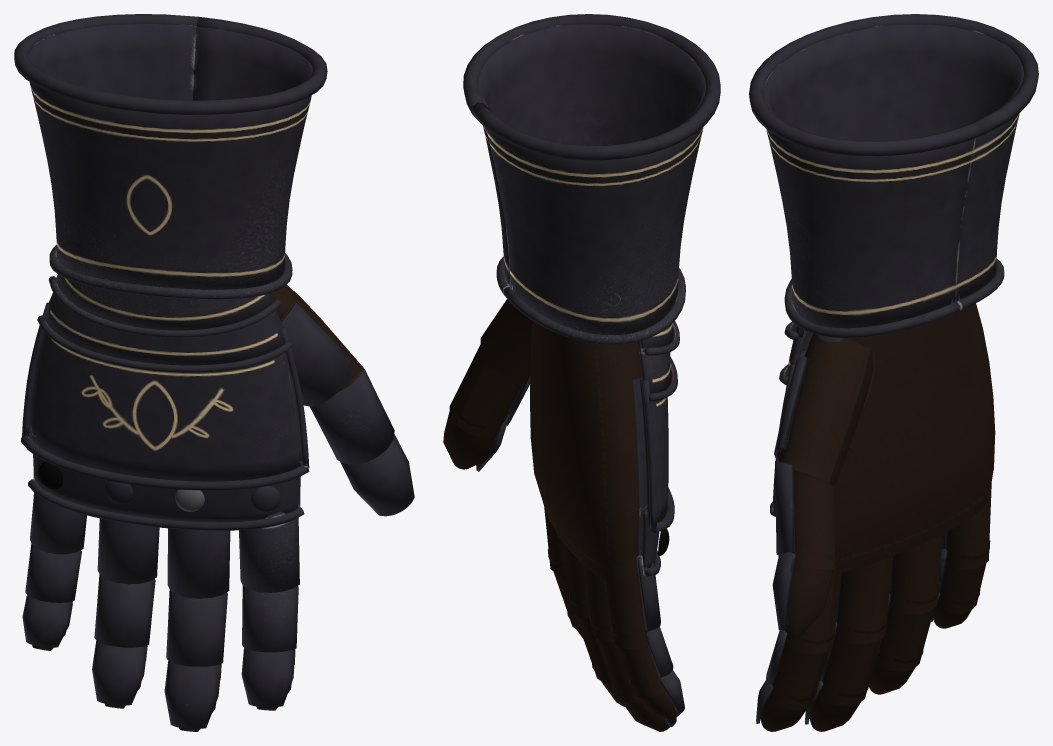
The model's file is SM_ObsidianSovereign_Gauntlets_R.fbx.
3 views of the same model, side by side, from view 1: azimuth 30°, elevation 25°; view 2: azimuth 150°, elevation 25°; view 3: azimuth 270°, elevation 25° (orthographic). The views are drawn at different scales.
Visible parts, largest first — view 1: SM_ObsidianSovereign_Gauntlets_R; view 2: SM_ObsidianSovereign_Gauntlets_R; view 3: SM_ObsidianSovereign_Gauntlets_R.
Boxes of the visible parts, x1=… form: SM_ObsidianSovereign_Gauntlets_R: x1=14, y1=14, x2=414, y2=731; SM_ObsidianSovereign_Gauntlets_R: x1=443, y1=14, x2=720, y2=731; SM_ObsidianSovereign_Gauntlets_R: x1=749, y1=14, x2=1038, y2=731.
Bounding box in the file's own units: 13.41 × 10.49 × 26.67.
